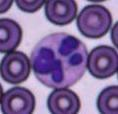N: (31, 31, 88, 88)
